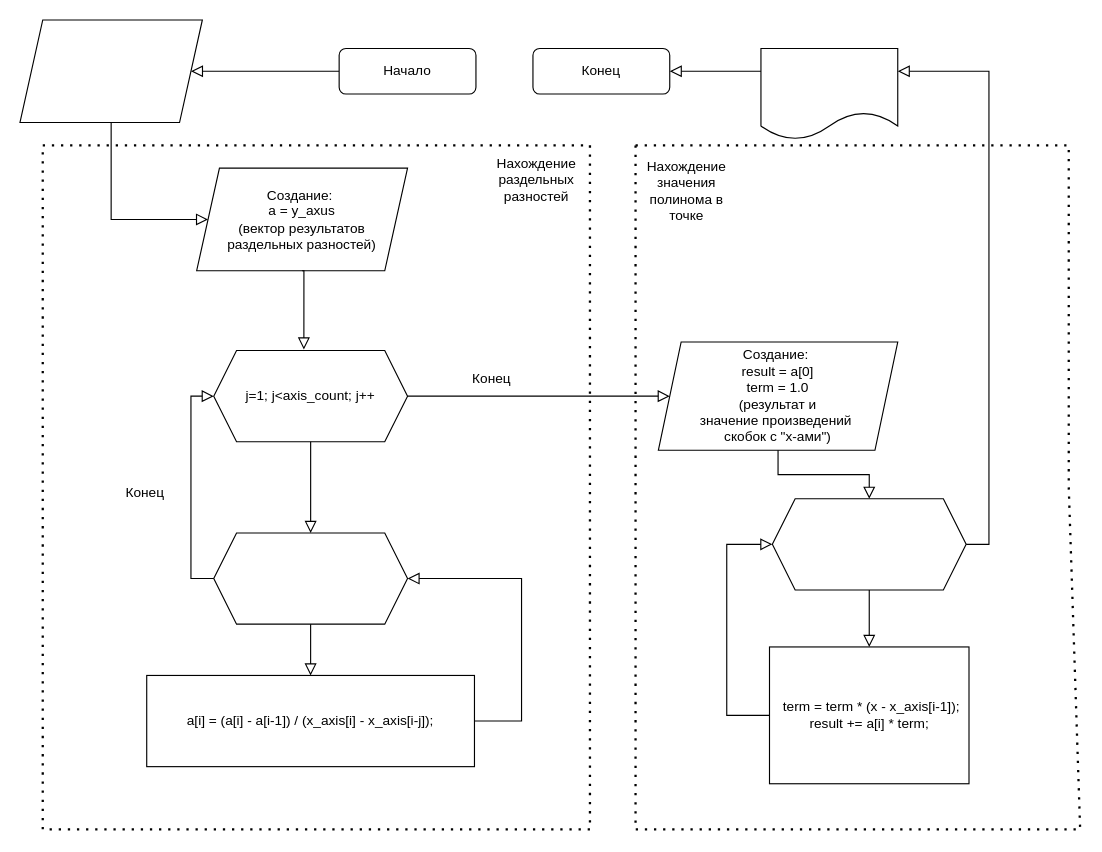
Some shapes in this 1102 by 852 pixel diagram are drawn without their labels. The centre of each missing label's shape, as x and y in pixels:
i=1; i<axis_count; i++: the point at 868,544
i=n-1; i>=j; i--: the point at 310,578
Ввод: axis_count x_axis y_axis x: the point at 110,71
Вывод: result: the point at 829,93
